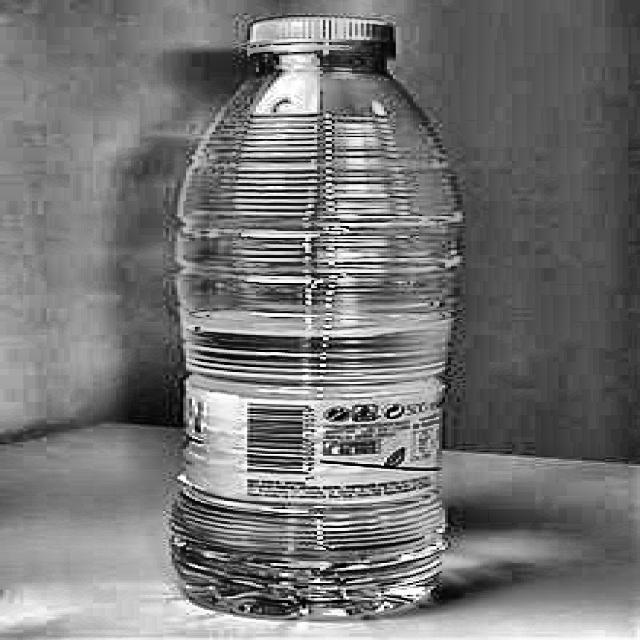waterbottle: (148, 3, 482, 631)
